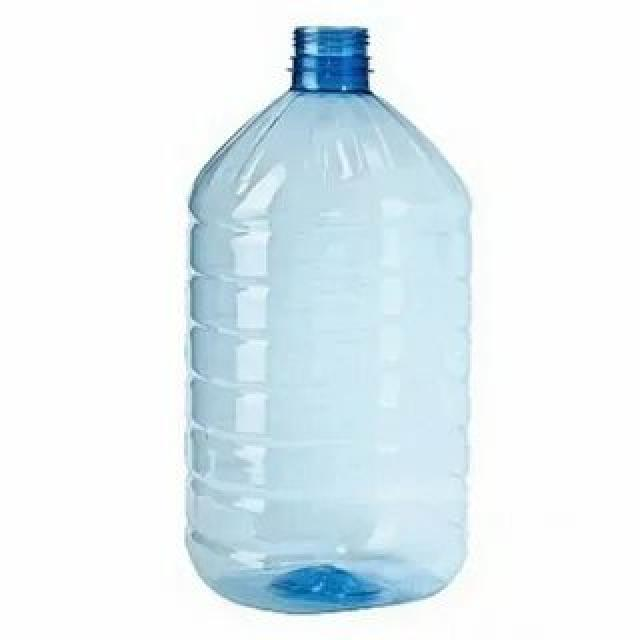blue: (188, 27, 470, 613)
